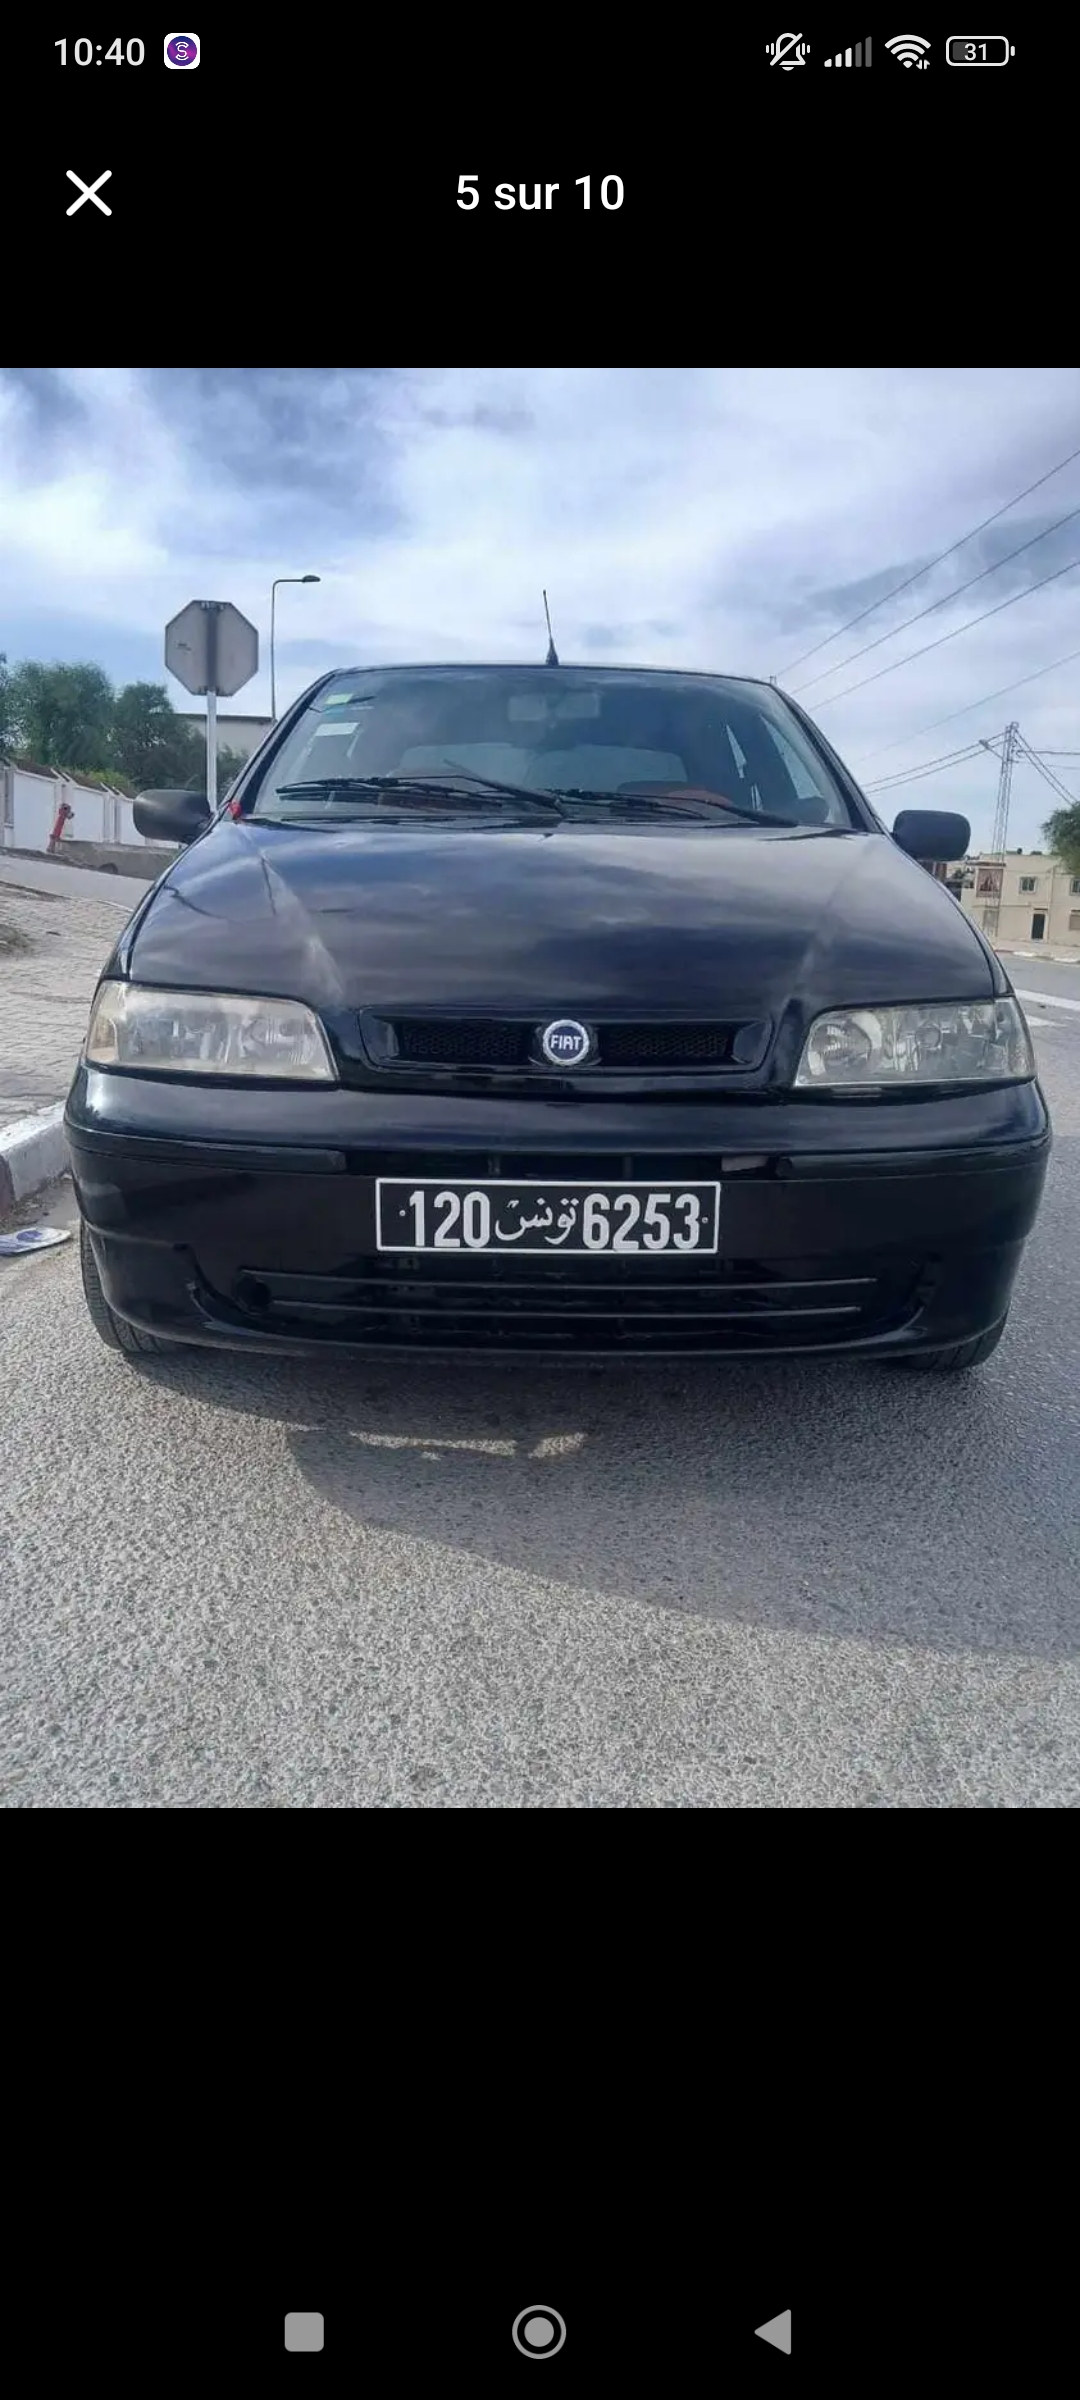fiat: (57, 620, 1080, 1456)
